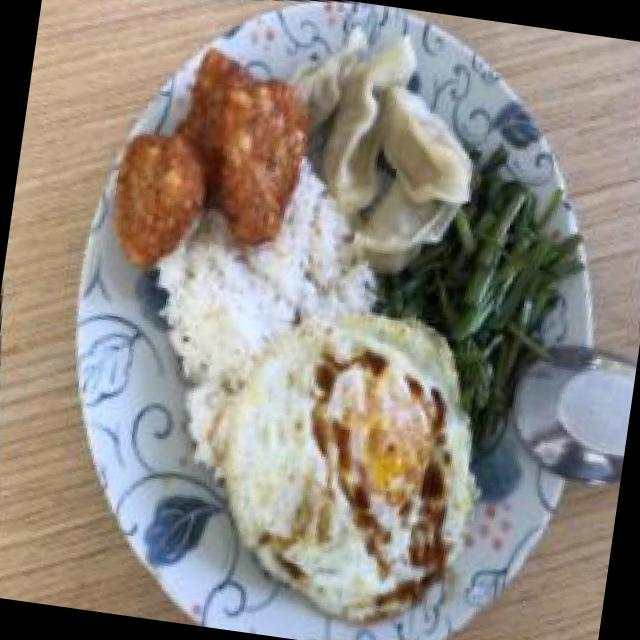fried_dumplings: (272, 11, 499, 290)
fried_eggs: (186, 282, 519, 640)
rice: (146, 188, 368, 389)
triangle_hash_brown: (80, 26, 332, 294)
water_spinach: (420, 157, 576, 402)
